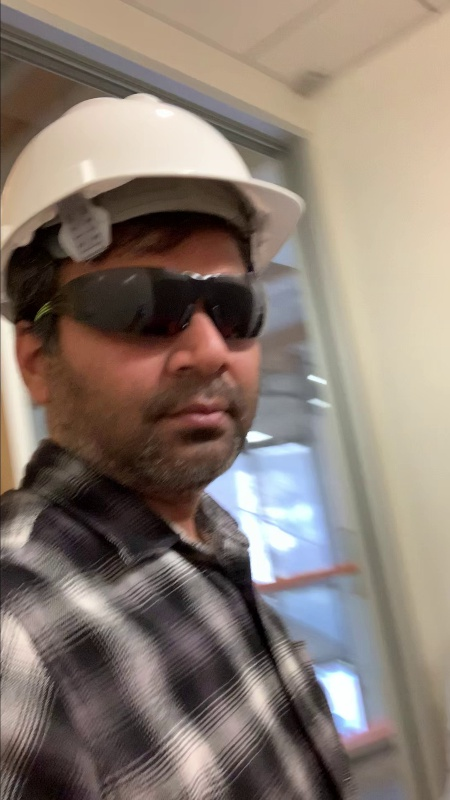glasses: (59, 259, 283, 353)
helmet: (1, 84, 308, 270)
